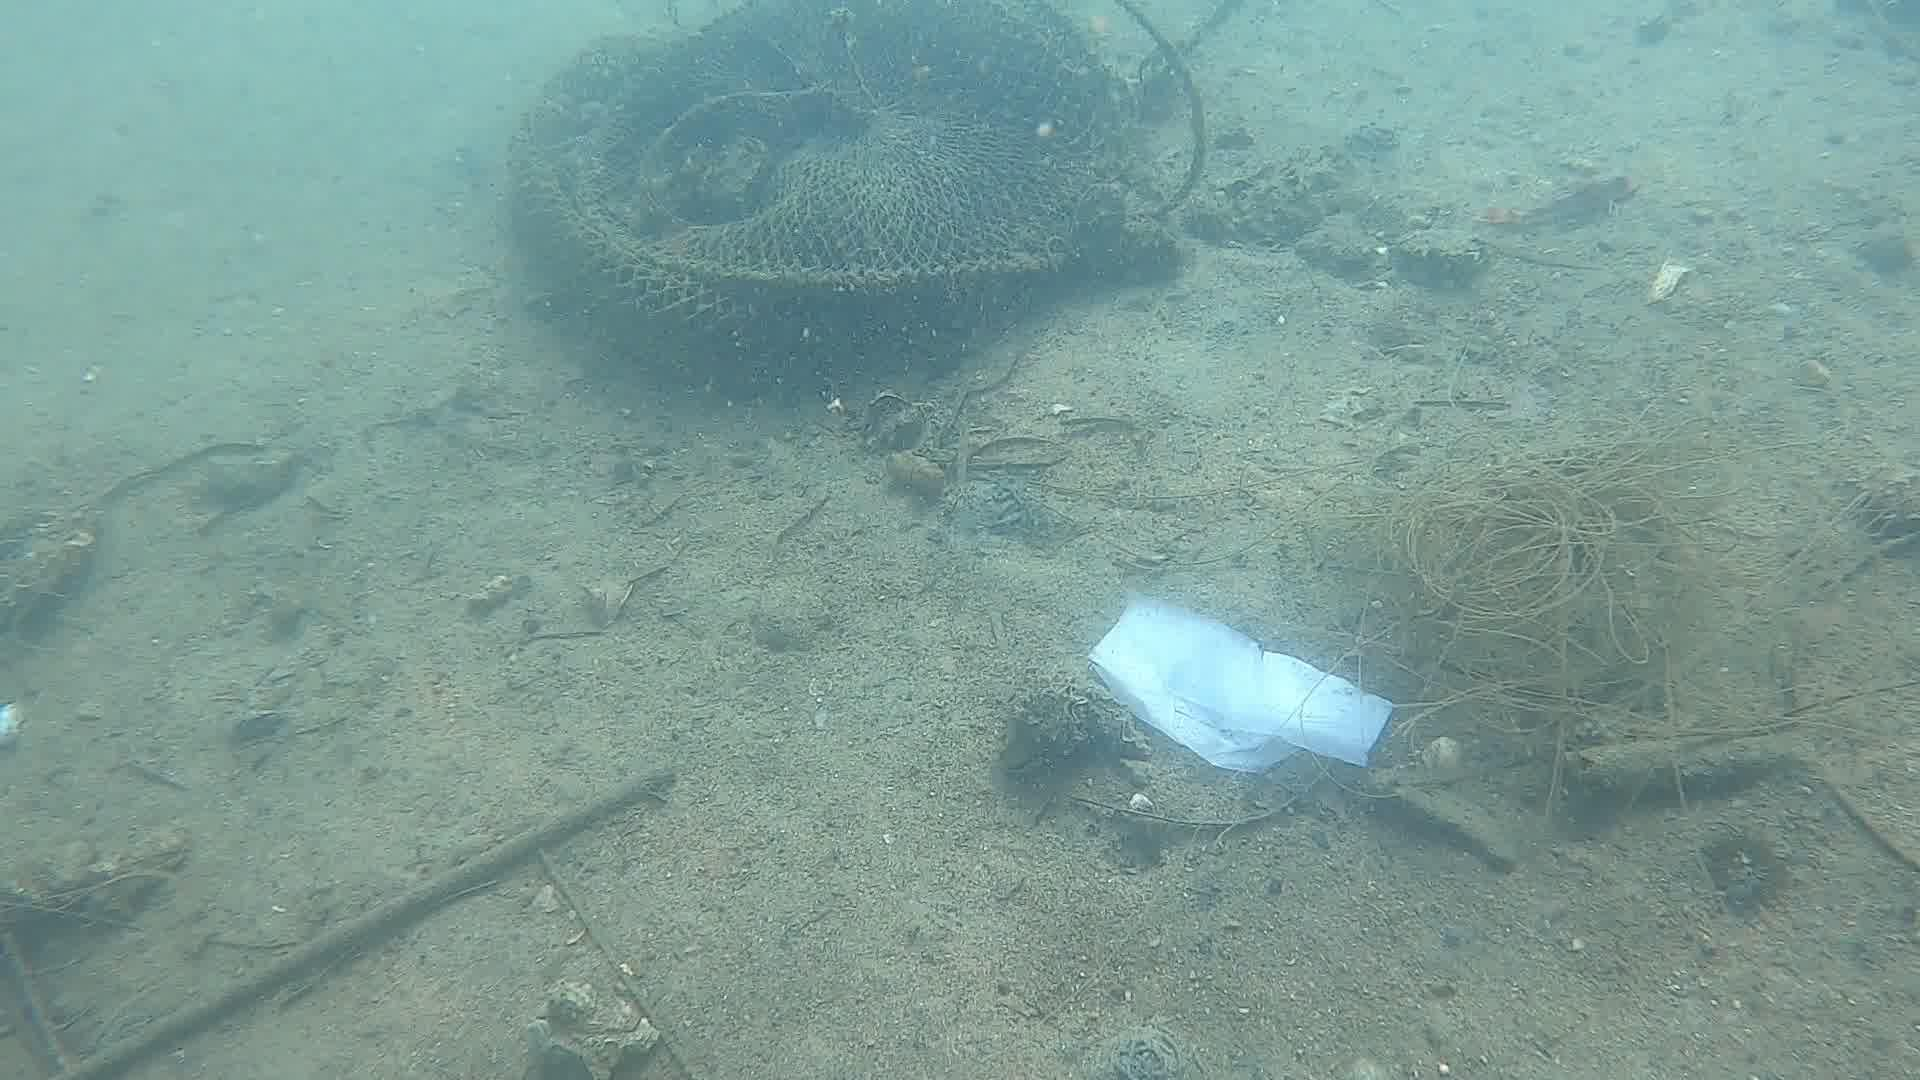circular fish trap: (492, 0, 1139, 386)
